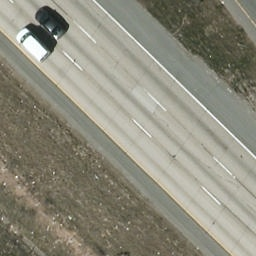car: (33, 6, 68, 38)
van: (15, 28, 52, 65)
